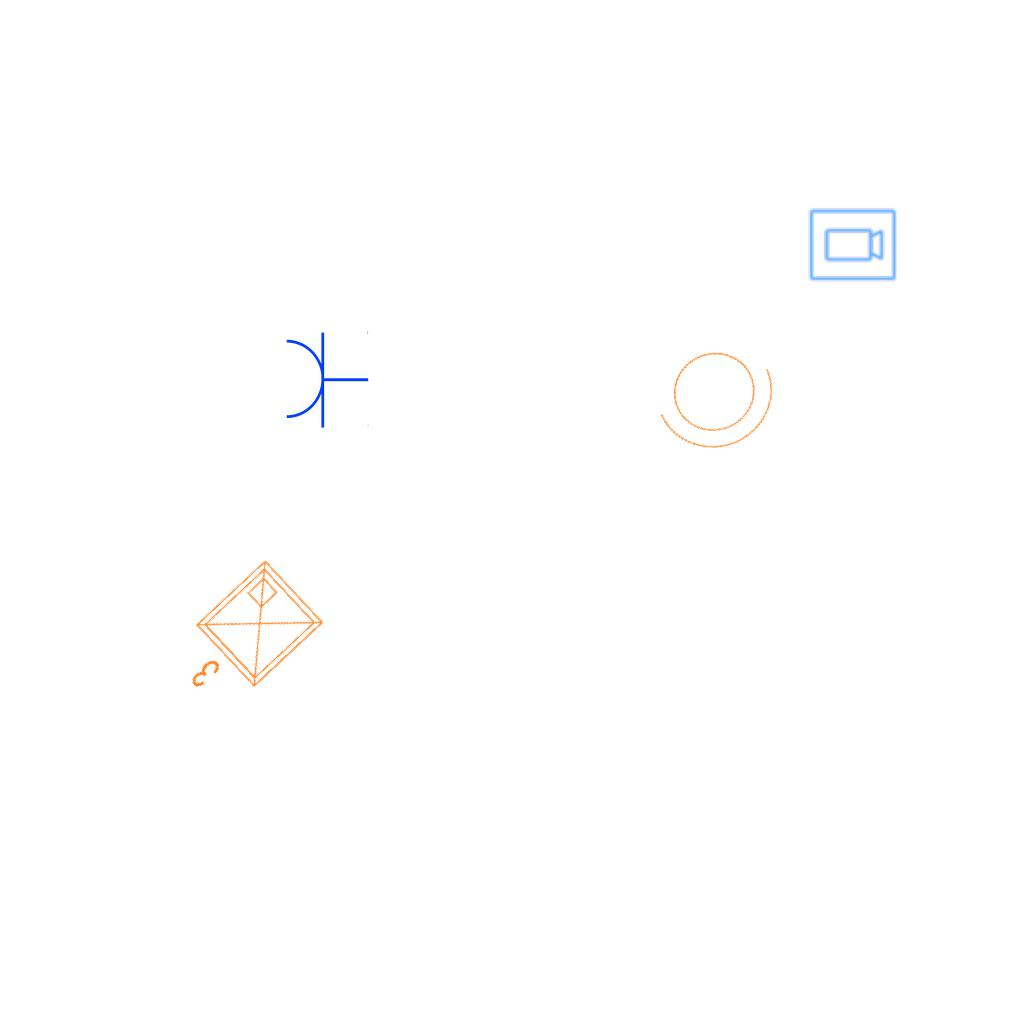Einbaudownlights_LED_Konferenzraeume: (155, 549, 337, 729)
KFO_Kamera_mit_Festobjektiv: (807, 207, 898, 284)
Scheinwerfer_fuer_Alarmbeleuchtung: (636, 317, 802, 473)
Schukosteckdose_einfach: (282, 329, 369, 429)
